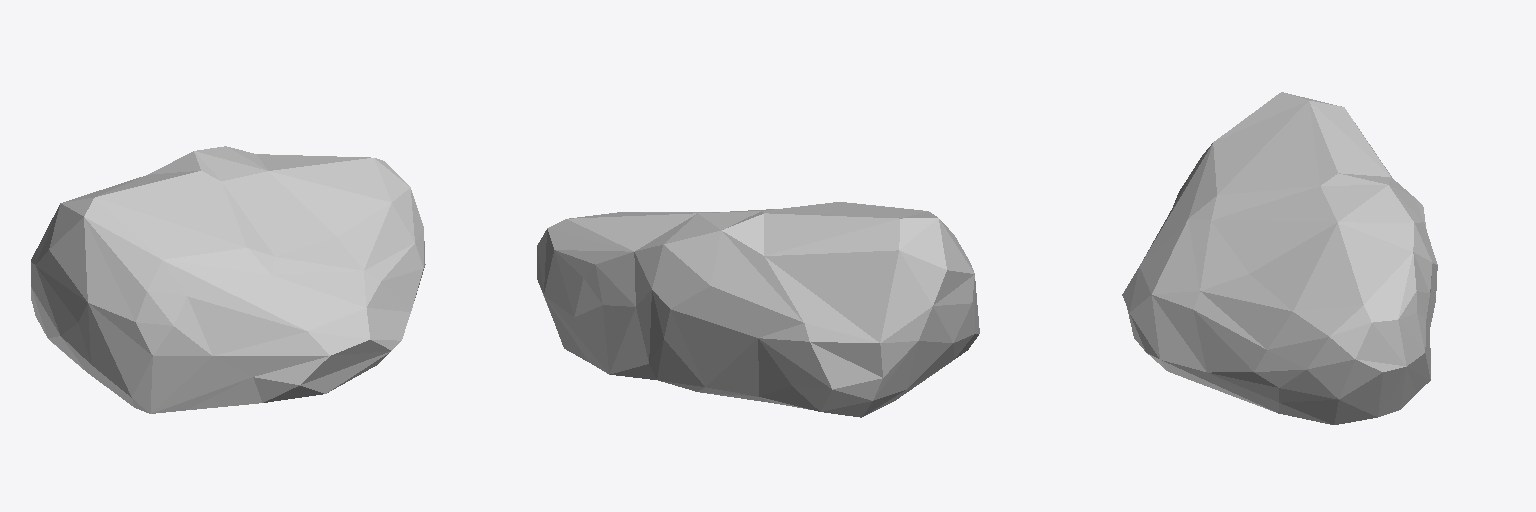
The model's file is Forest_B_Rock_04.obj.
3 renders of one model, left to right at view 1: azimuth 30°, elevation 25°; view 2: azimuth 150°, elevation 25°; view 3: azimuth 270°, elevation 25°, orthographic.
Parts seen in each view (by area): view 1: Forest_B_Rock_04; view 2: Forest_B_Rock_04; view 3: Forest_B_Rock_04.
Part boxes in pixels (bbox=[...]): Forest_B_Rock_04: bbox=[31, 146, 425, 413]; Forest_B_Rock_04: bbox=[537, 202, 979, 417]; Forest_B_Rock_04: bbox=[1122, 92, 1437, 424].
Size of the model in its own units: 148 by 61.65 by 105.